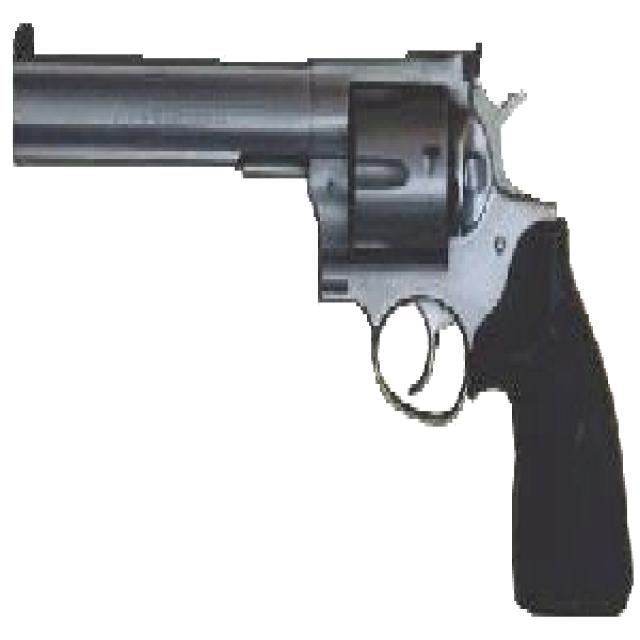pistol: (15, 15, 636, 613)
